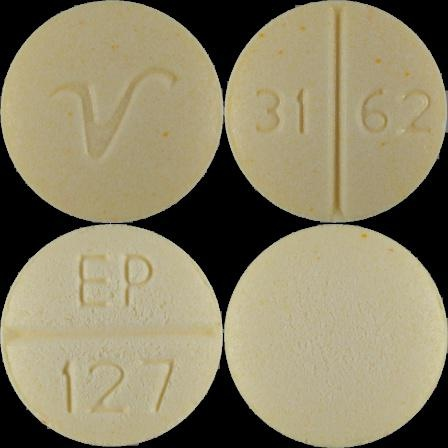50090-0199: (0, 0, 224, 224)
